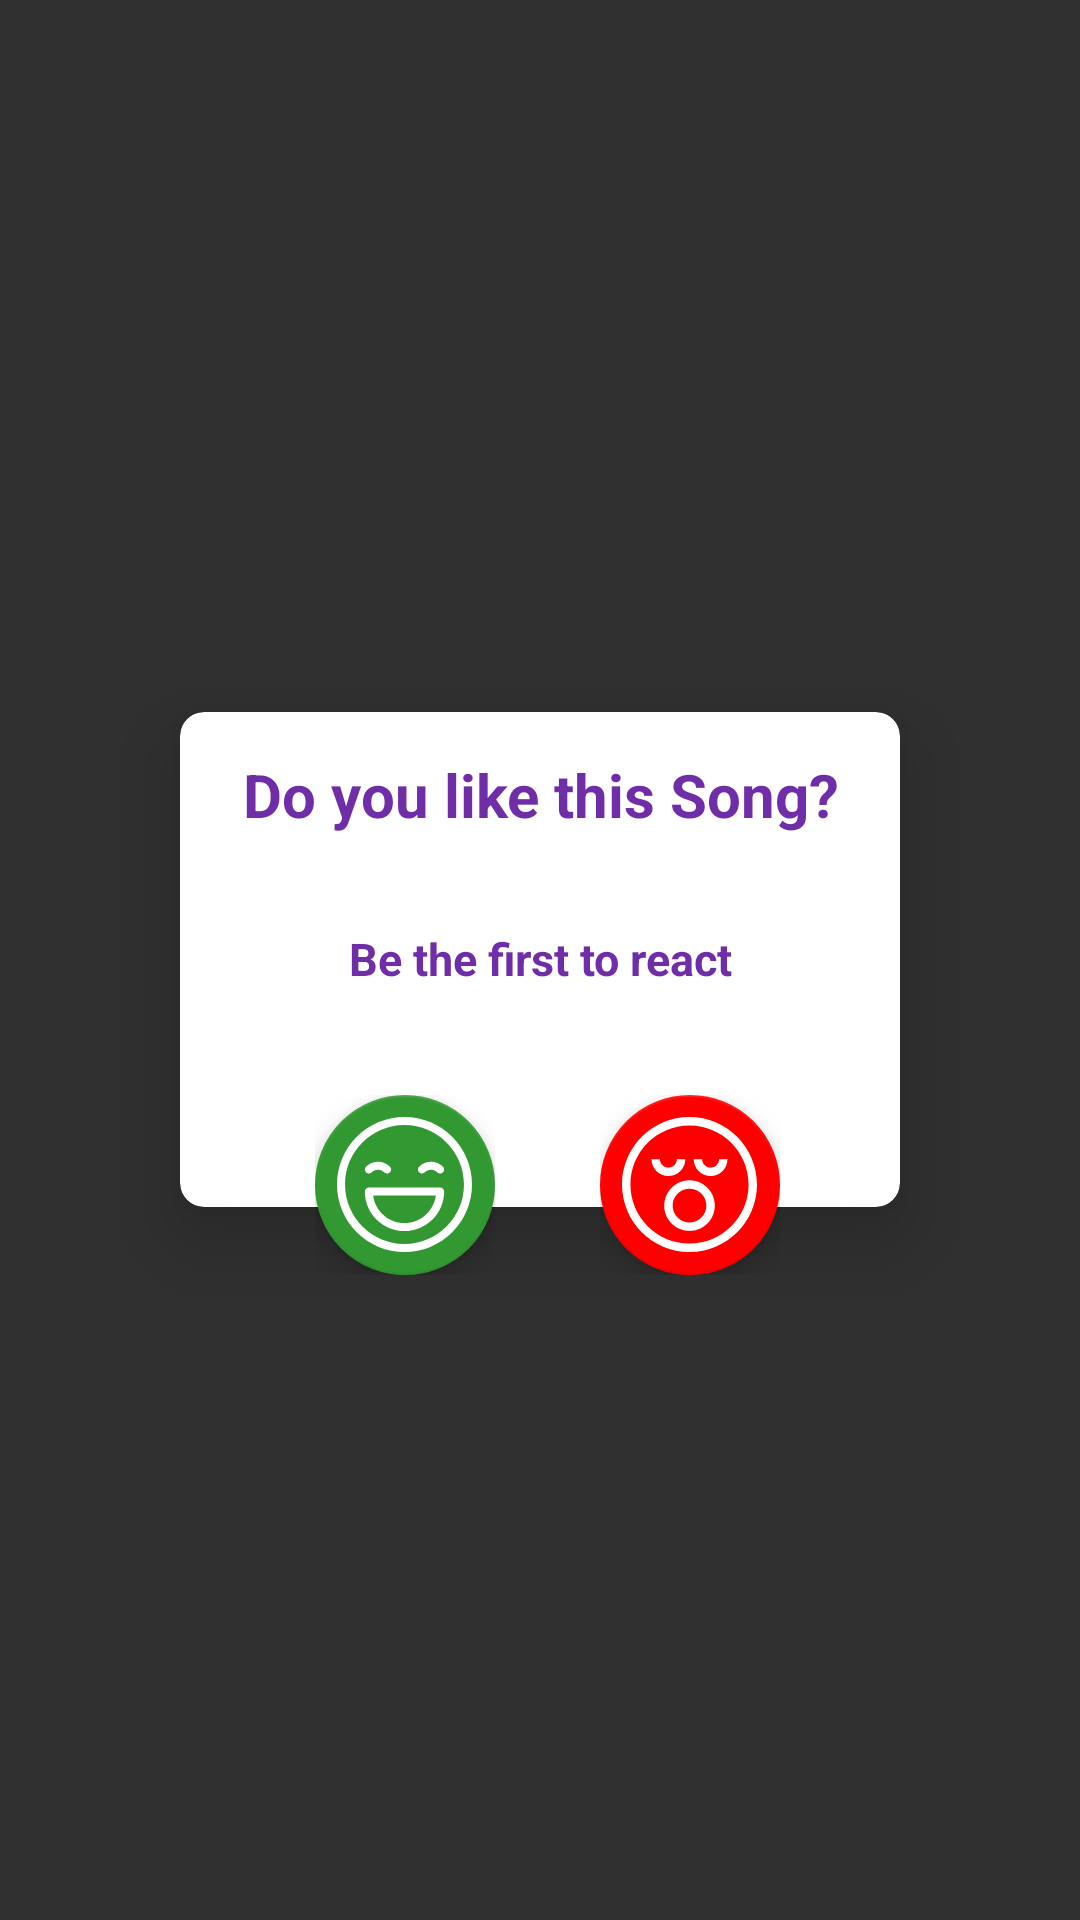

Screen size 1080 x 1920. Icon name, then its center in pixels as point (x, y):
bored: point (690, 1185)
smile: point (405, 1185)
